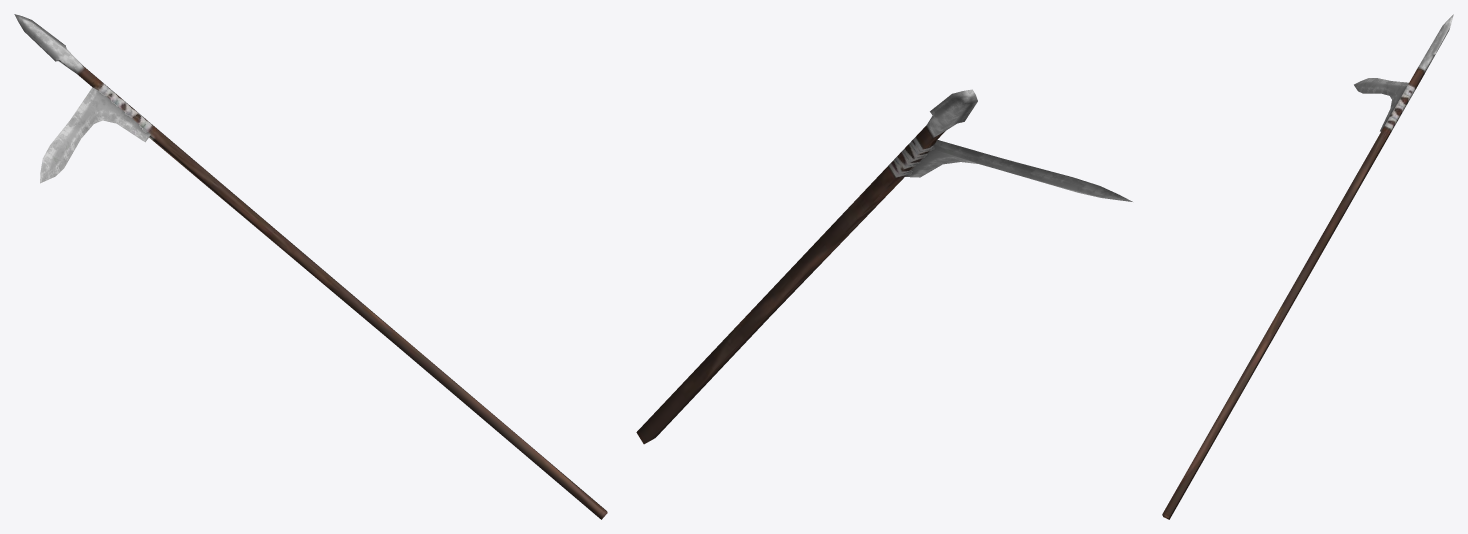
Rendered from weapon-bronzeweapons.glb.
3 renders of one model, left to right at view 1: azimuth 30°, elevation 25°; view 2: azimuth 150°, elevation 25°; view 3: azimuth 270°, elevation 25°, orthographic. The views are drawn at different scales.
Bounding box in the file's own units: 1.77 × 1.77 × 1.31.
Materials: 1 (1 with a texture image).
